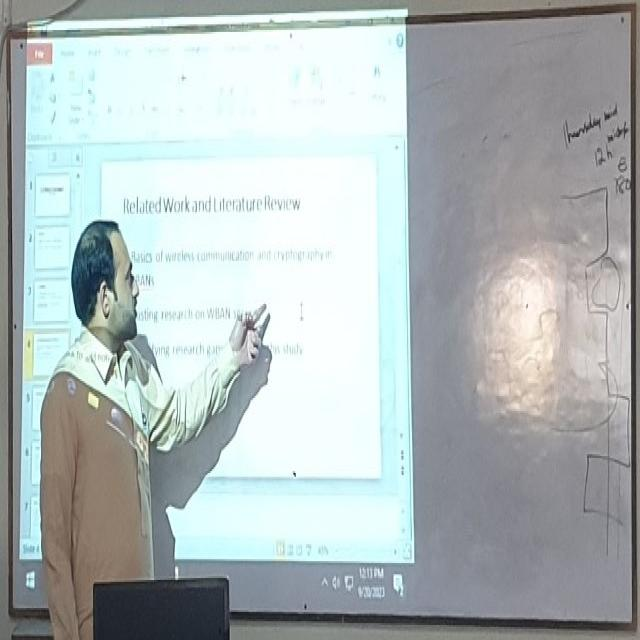Instructor: (50, 202, 163, 640)
Slide: (19, 8, 415, 603)
White-board: (10, 7, 636, 630)
